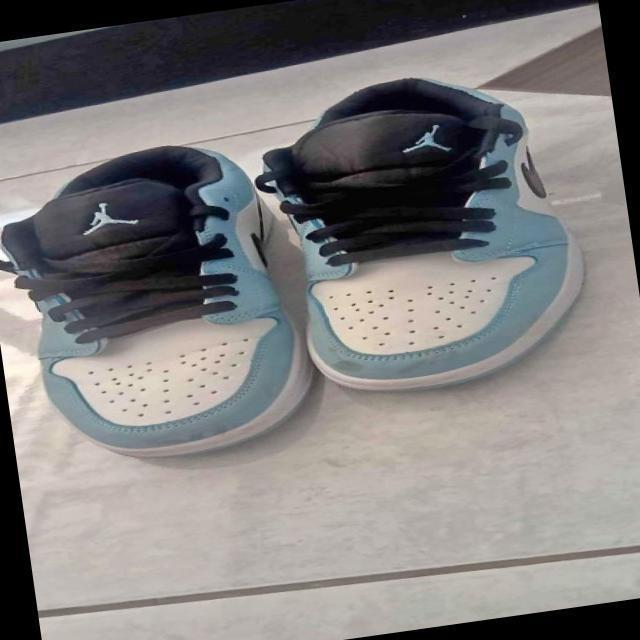nike fake jordan 1: (250, 61, 604, 407), (0, 130, 312, 479)
